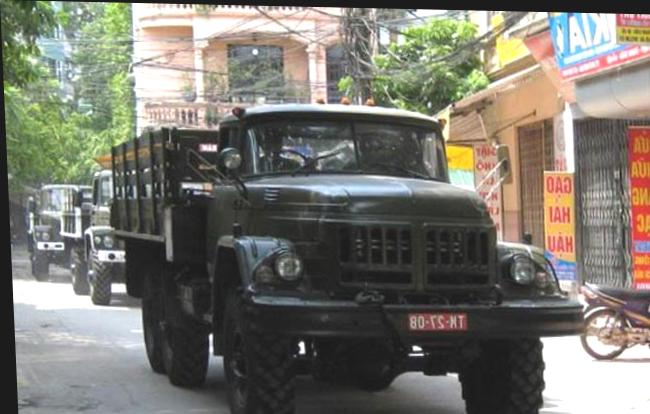License_Plate: (406, 309, 472, 334)
